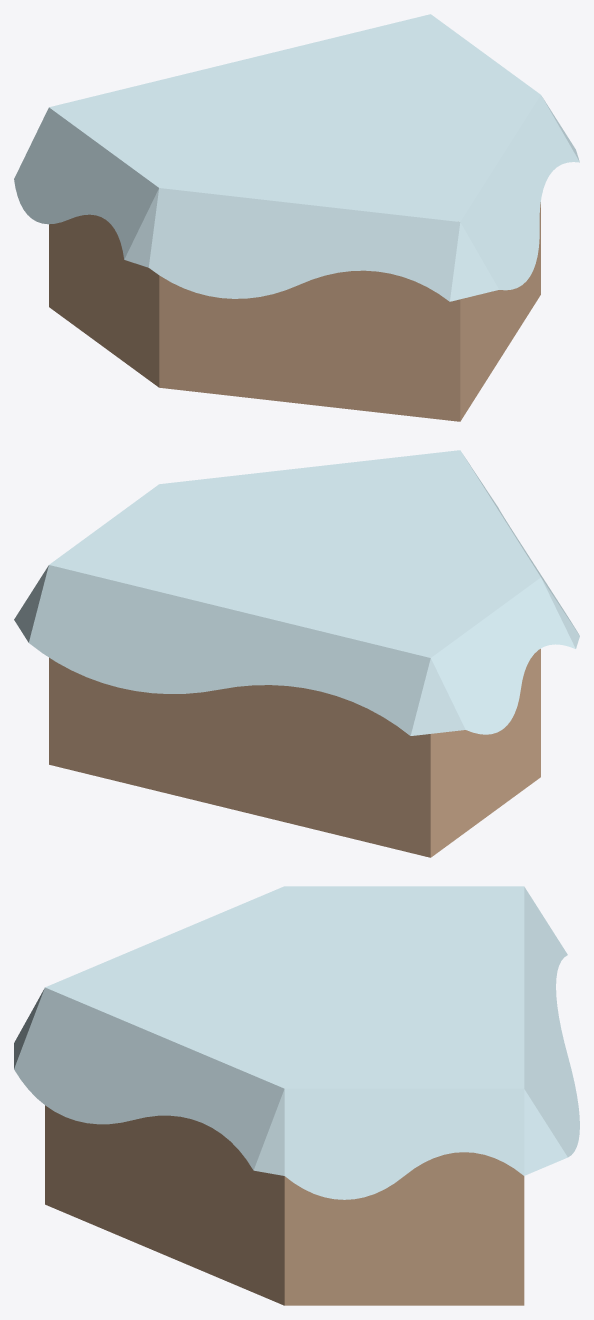
Rendered from blockSnowEnd.fbx.
3 views of the same model, one above another, from view 1: azimuth 30°, elevation 25°; view 2: azimuth 150°, elevation 25°; view 3: azimuth 270°, elevation 25° (orthographic). The views are drawn at different scales.
Visible parts, largest first — view 1: blockSnowEnd_LOD0; view 2: blockSnowEnd_LOD0; view 3: blockSnowEnd_LOD0.
Boxes of the visible parts, box(x1,y1,x2,y2) form: blockSnowEnd_LOD0: box(14, 14, 579, 421); blockSnowEnd_LOD0: box(14, 450, 579, 857); blockSnowEnd_LOD0: box(14, 886, 579, 1305).
Size of what is drawn, in the model's own units: 123 by 50 by 118.
